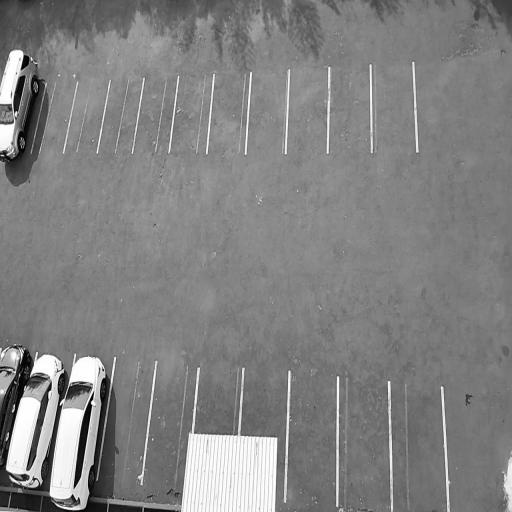Car: (45, 351, 111, 512), (1, 349, 69, 495), (0, 46, 44, 167), (1, 342, 36, 474)
Space Available: (388, 380, 448, 512), (337, 376, 393, 510), (98, 357, 156, 484), (285, 370, 338, 503), (142, 362, 195, 489), (371, 64, 418, 148), (286, 65, 329, 154), (328, 65, 372, 151), (132, 75, 179, 155), (97, 76, 144, 153), (246, 70, 289, 154), (207, 72, 251, 154), (169, 74, 214, 151), (64, 79, 110, 154), (239, 368, 289, 437), (31, 81, 78, 153), (194, 367, 243, 434)
